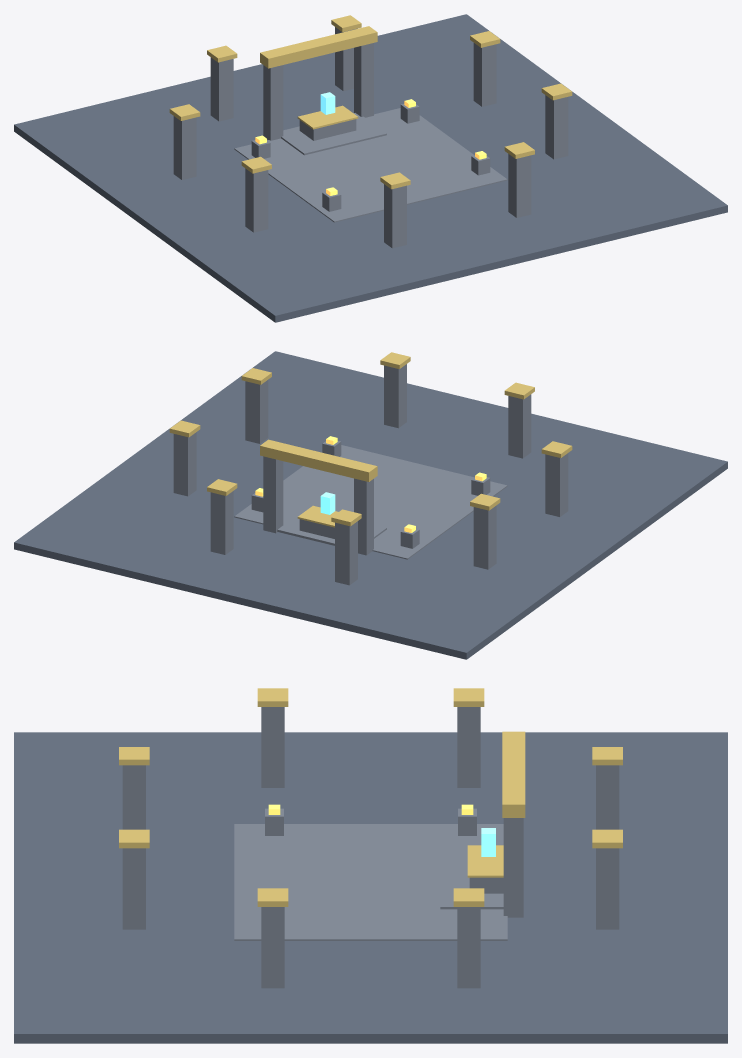
Rendered from sanctuary_environment.glb.
The picture shows the model from 3 angles, top to bottom: view 1: azimuth 30°, elevation 25°; view 2: azimuth 150°, elevation 25°; view 3: azimuth 270°, elevation 25°; orthographic projection. The views are drawn at different scales.
Parts seen in each view (by area): view 1: Walkable_MainFloor, Walkable_InnerDais, Arch_Lintel, Walkable_AltarStep, Arch_LeftPillar, Gothic_Pillar_5, Gothic_Pillar_0, Gothic_Pillar_1, Gothic_Pillar_7, Gothic_Pillar_3, Gothic_Pillar_4, Arch_RightPillar (+4 smaller); view 2: Walkable_MainFloor, Walkable_InnerDais, Arch_Lintel, Arch_RightPillar, Gothic_Pillar_2, Gothic_Pillar_0, Gothic_Pillar_6, Gothic_Pillar_7, Gothic_Pillar_4, Gothic_Pillar_3, Gothic_Pillar_1, Gothic_Pillar_5 (+2 smaller); view 3: Walkable_MainFloor, Walkable_InnerDais, Arch_RightPillar, Arch_Lintel, Gothic_Pillar_0, Gothic_Pillar_1, Gothic_Pillar_6, Gothic_Pillar_7, Gothic_Pillar_3, Gothic_Pillar_4, Walkable_AltarStep, Gothic_Pillar_2 (+10 smaller).
Part boxes in pixels (x1,y1,x2,y2): Walkable_MainFloor: (14,14,727,322); Walkable_InnerDais: (234,108,507,222); Arch_Lintel: (260,26,377,68); Walkable_AltarStep: (281,113,386,155); Arch_LeftPillar: (263,65,283,140); Gothic_Pillar_5: (210,57,233,121); Gothic_Pillar_0: (545,95,568,159); Gothic_Pillar_1: (508,154,531,217); Gothic_Pillar_7: (473,43,496,106); Gothic_Pillar_3: (245,168,268,232); Gothic_Pillar_4: (173,116,196,179); Arch_RightPillar: (354,43,373,117); Walkable_MainFloor: (14,351,727,659); Walkable_InnerDais: (234,445,507,559); Arch_Lintel: (260,439,377,481); Arch_RightPillar: (263,456,283,533); Gothic_Pillar_2: (508,394,531,458); Gothic_Pillar_0: (245,380,268,443); Gothic_Pillar_6: (210,491,233,554); Gothic_Pillar_7: (173,432,196,496); Gothic_Pillar_4: (473,505,496,569); Gothic_Pillar_3: (545,453,568,516); Gothic_Pillar_1: (384,364,406,428); Gothic_Pillar_5: (335,521,357,585); Walkable_MainFloor: (14,732,727,1043); Walkable_InnerDais: (234,824,507,940); Arch_RightPillar: (503,818,523,917); Arch_Lintel: (502,731,525,817); Gothic_Pillar_0: (261,907,284,988); Gothic_Pillar_1: (122,848,145,929); Gothic_Pillar_6: (596,848,619,929); Gothic_Pillar_7: (457,907,480,988); Gothic_Pillar_3: (261,707,284,787); Gothic_Pillar_4: (457,707,480,787); Walkable_AltarStep: (440,852,503,909); Gothic_Pillar_2: (122,765,145,829).
Size of the model in its own units: 34 by 6.55 by 34.
